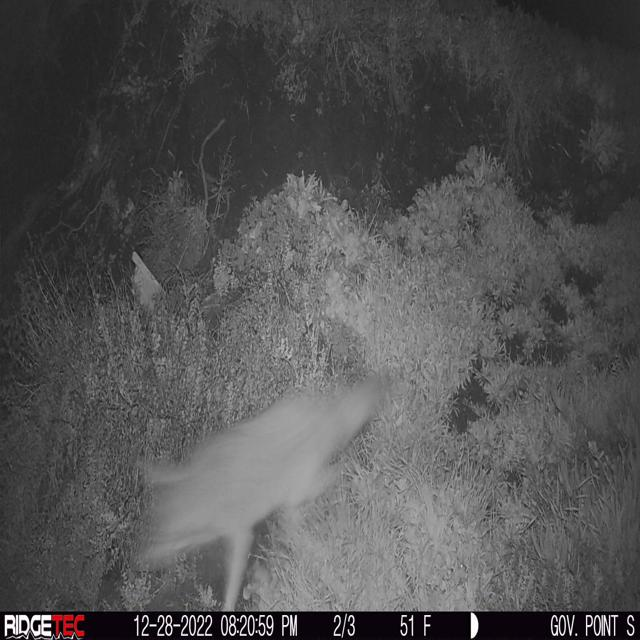coyote: (132, 373, 388, 611)
